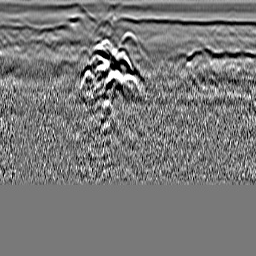cavity: (119, 29, 137, 48)
